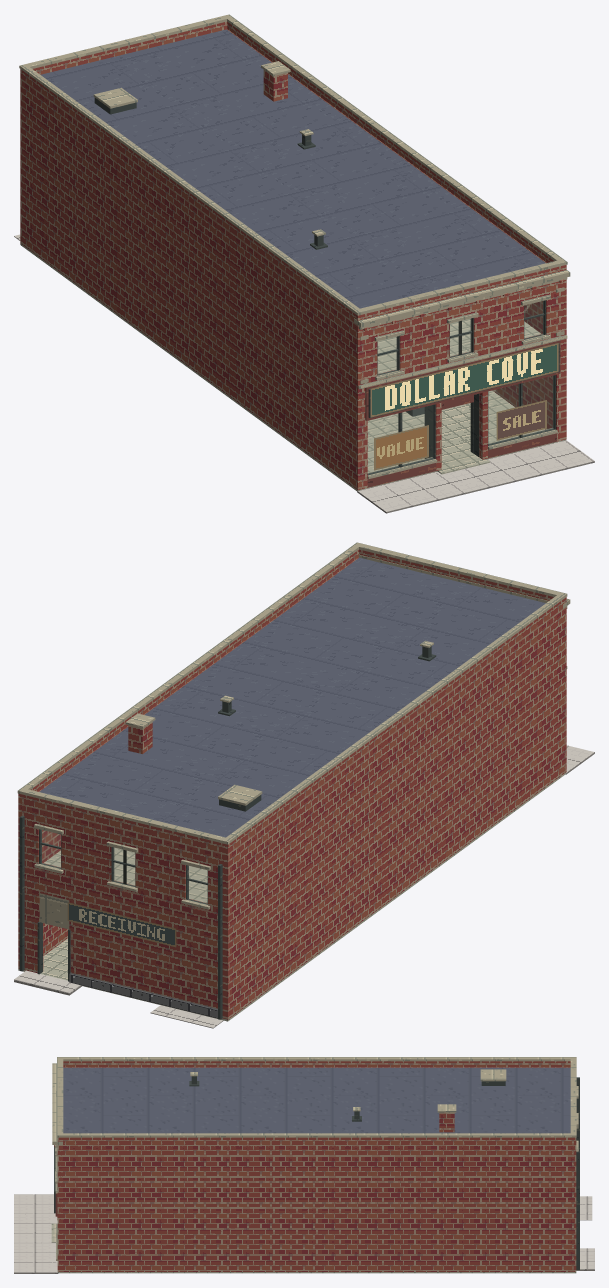
File: marlow-2000-mid.glb
The picture shows the model from 3 angles, top to bottom: view 1: azimuth 30°, elevation 25°; view 2: azimuth 150°, elevation 25°; view 3: azimuth 270°, elevation 25°; orthographic projection. The views are drawn at different scales.
Visible parts, largest first — view 1: building_shell, roof_and_parapet, Shared street sidewalk, sign_name, sign_value, sign_sale; view 2: building_shell, roof_and_parapet, sign_receiving, Rear receiving pad, lot; view 3: building_shell, roof_and_parapet, Shared street sidewalk, Rear receiving pad, lot.
Boxes of the visible parts, x1,y1,x2,y2 form: building_shell: (20, 29, 567, 491); roof_and_parapet: (19, 14, 570, 330); Shared street sidewalk: (357, 440, 594, 513); sign_name: (370, 343, 558, 417); sign_value: (374, 425, 428, 470); sign_sale: (496, 400, 546, 440); building_shell: (18, 557, 567, 1021); roof_and_parapet: (17, 542, 570, 854); sign_receiving: (67, 902, 176, 947); Rear receiving pad: (14, 970, 81, 995); lot: (150, 1005, 223, 1028); building_shell: (51, 1067, 579, 1273); roof_and_parapet: (52, 1057, 576, 1147); Shared street sidewalk: (14, 1194, 58, 1273); Rear receiving pad: (576, 1248, 594, 1270); lot: (580, 1196, 592, 1220).
Size of what is drawn, in the model's own units: 10.05 by 9.06 by 31.36.
10 materials, 10 textured.
